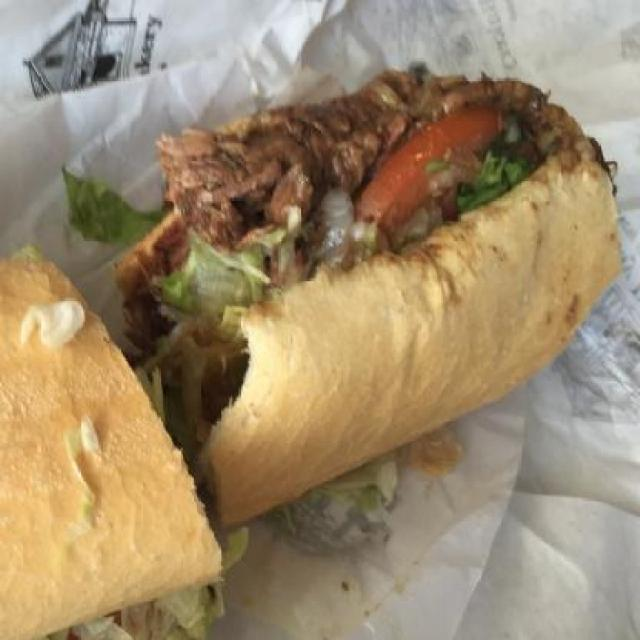Hot dog: (0, 56, 617, 639)
